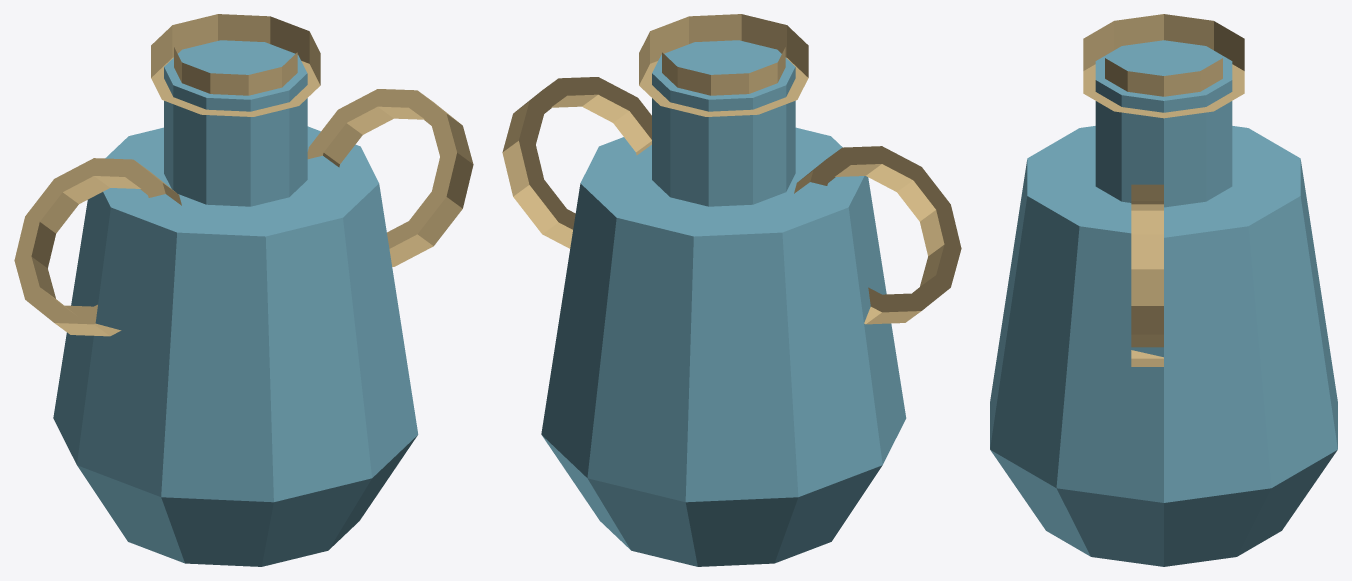
The model's file is tidal-cargo-amphora__267.glb.
The picture shows the model from 3 angles, left to right: view 1: azimuth 30°, elevation 25°; view 2: azimuth 150°, elevation 25°; view 3: azimuth 270°, elevation 25°; orthographic projection.
Visible parts, largest first — view 1: tidal-observatory-amphora; view 2: tidal-observatory-amphora; view 3: tidal-observatory-amphora.
Part boxes in pixels (x1=…): tidal-observatory-amphora: x1=14, y1=14, x2=473, y2=566; tidal-observatory-amphora: x1=502, y1=14, x2=961, y2=566; tidal-observatory-amphora: x1=990, y1=14, x2=1337, y2=566.
Size of the model in its own units: 0.78 by 0.785 by 0.5326.
